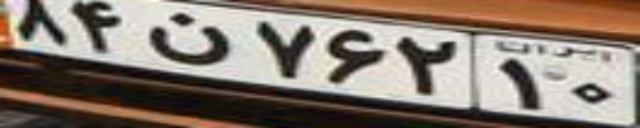0: (564, 80, 610, 105)
1: (493, 57, 542, 110)
2: (394, 36, 457, 95)
4: (69, 0, 124, 53)
6: (322, 28, 385, 83)
7: (251, 21, 314, 79)
8: (13, 0, 65, 44)
non: (146, 11, 234, 66)
